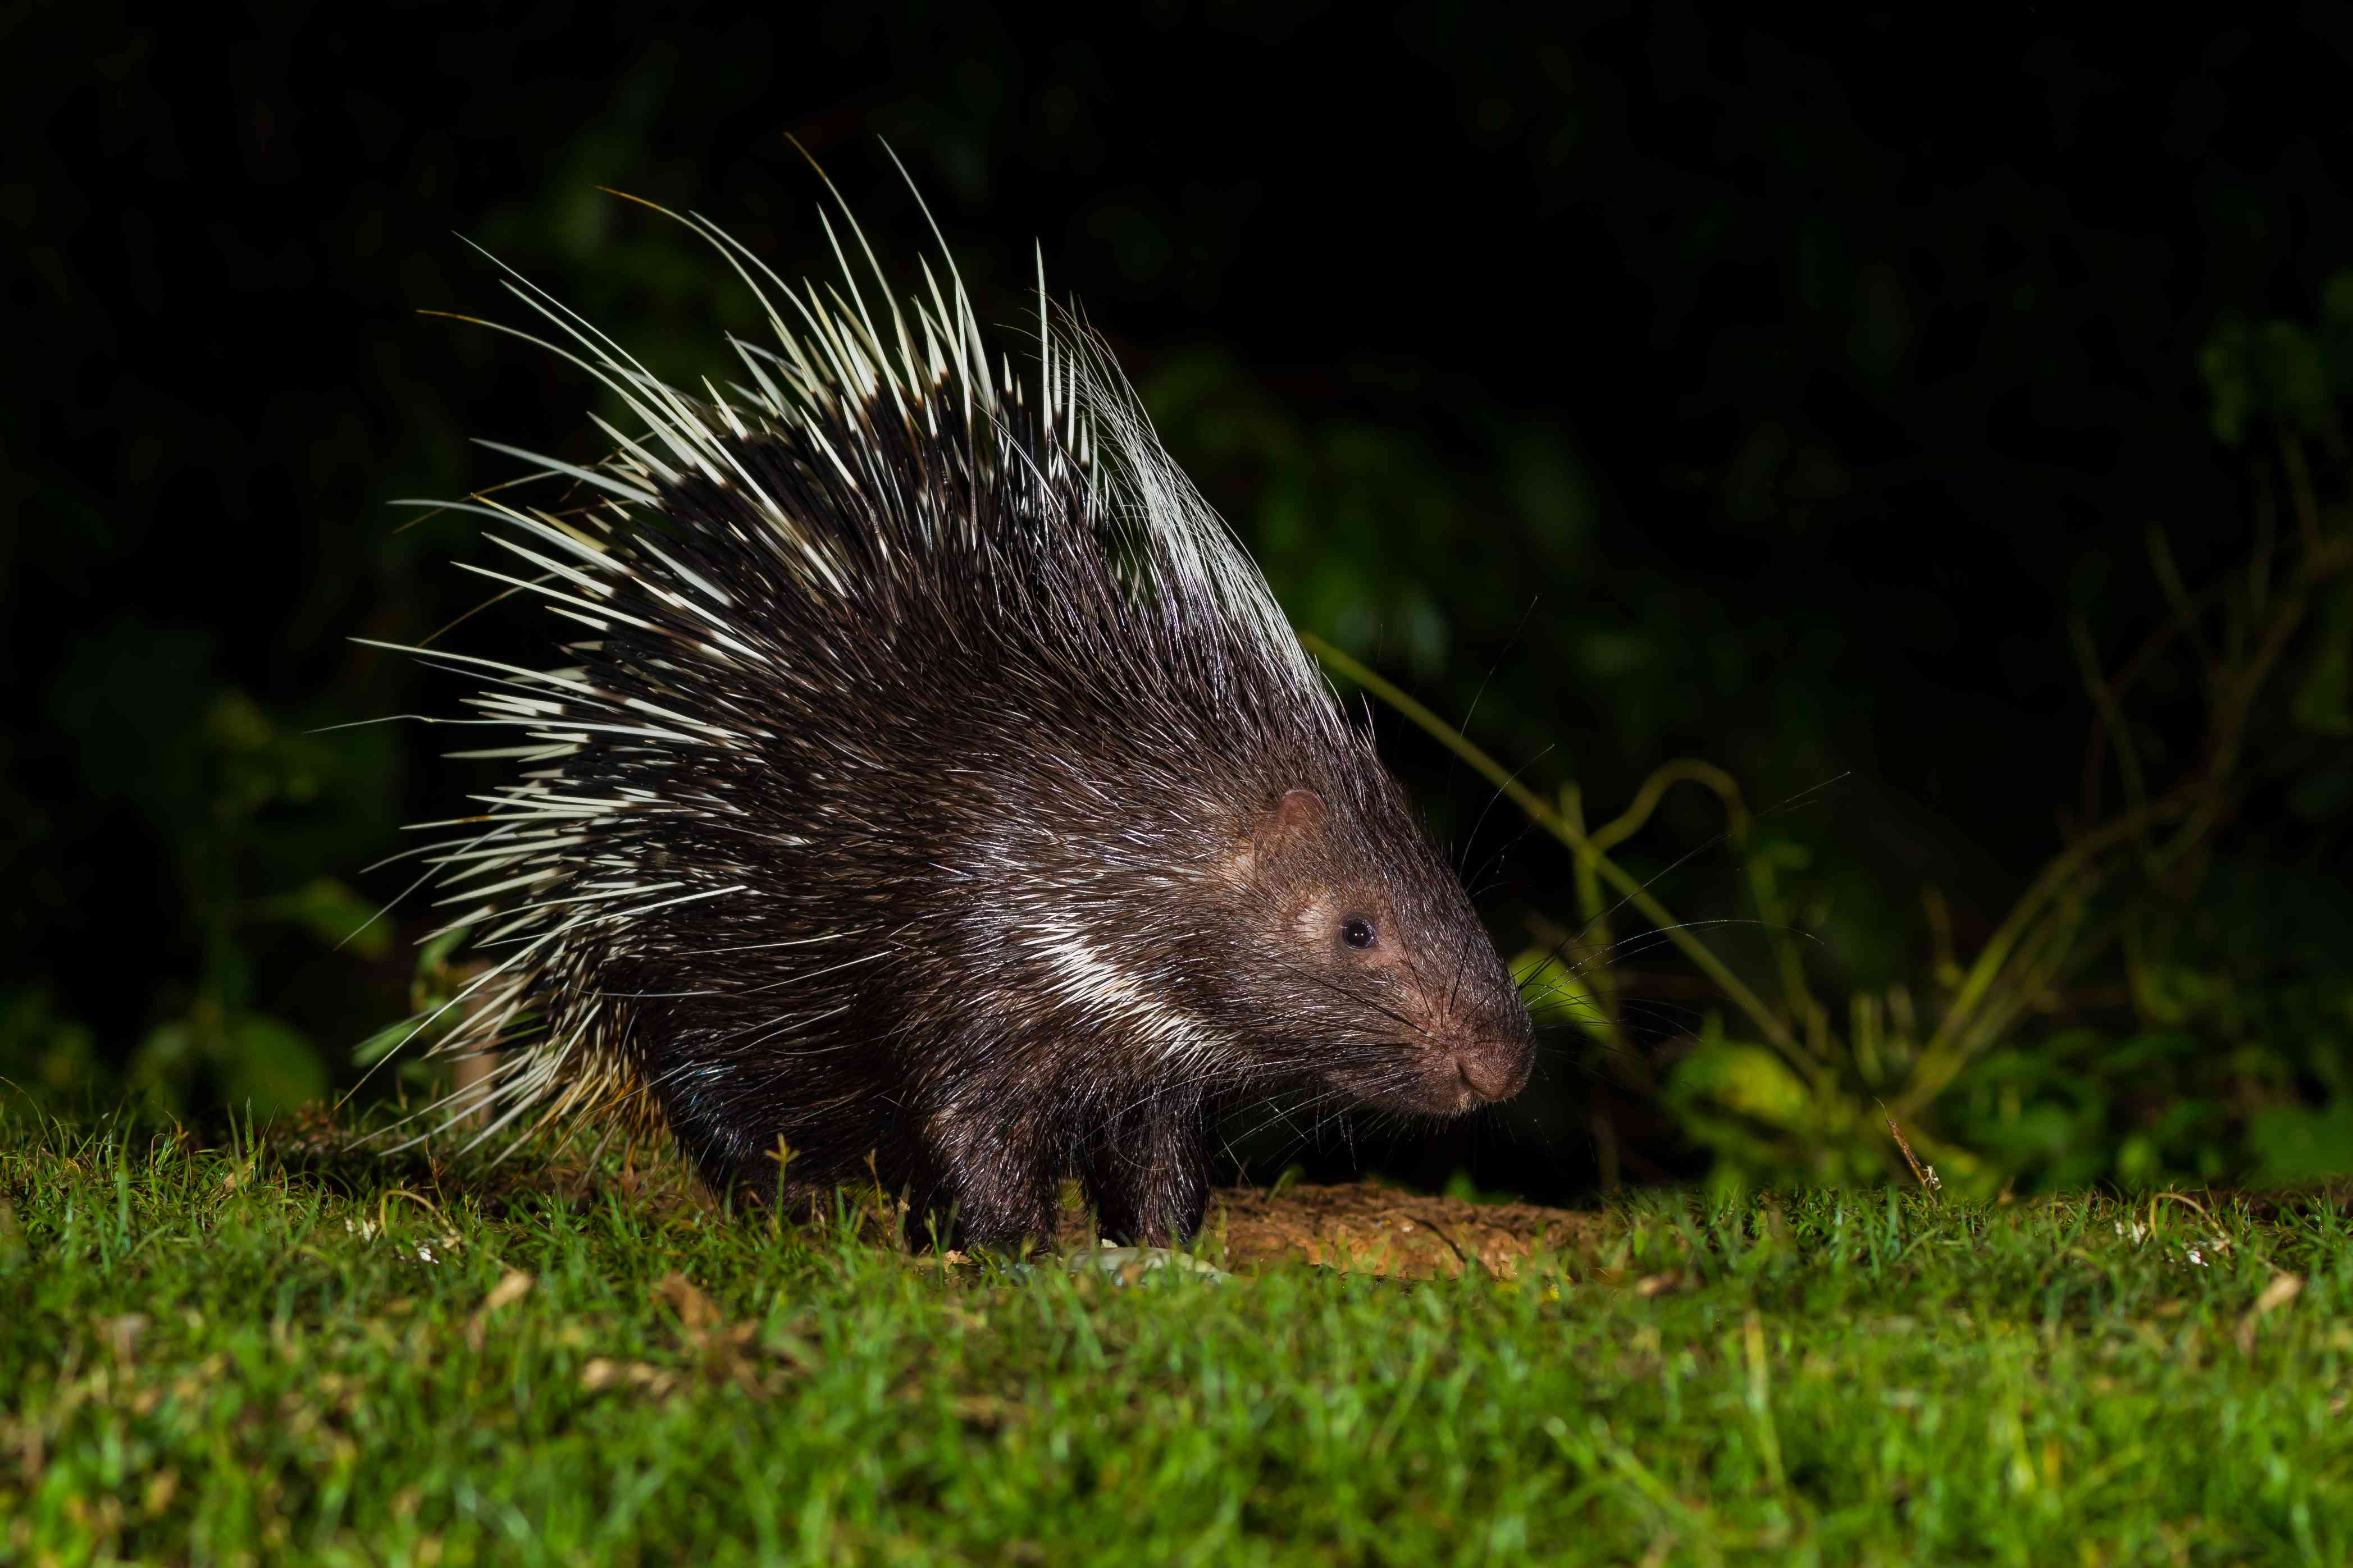porcupine: (226, 208, 1605, 1295)
